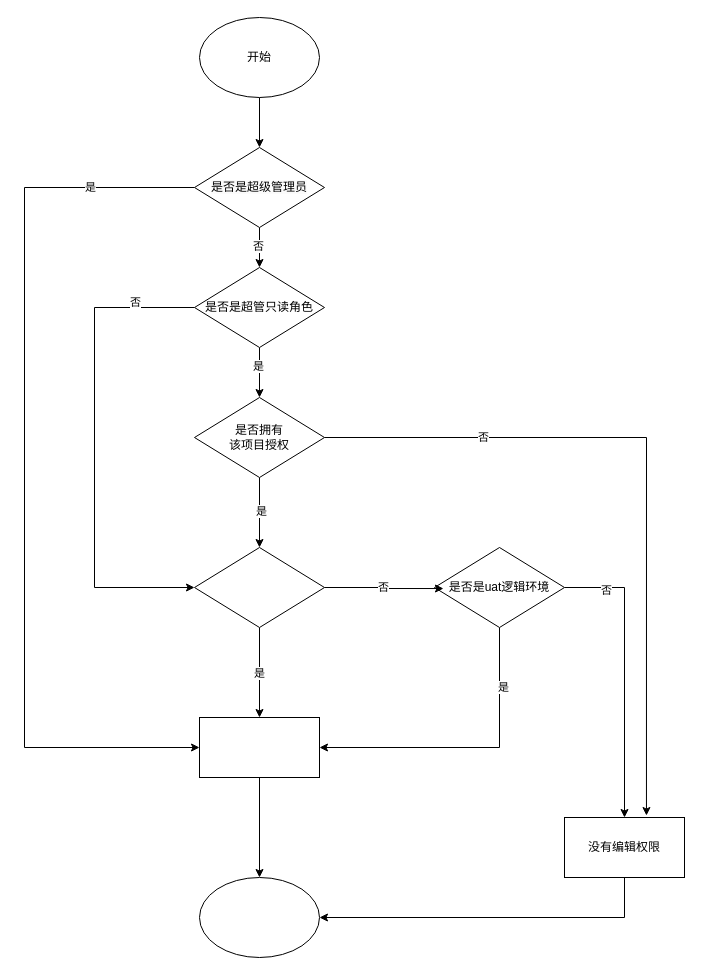
Image size: 702x975. Some labels were removed from this diagram. The shapes that lost their labels are listed below. From the top down, each one's centre as x and y in pixels, then its label:
At point (259, 587): "是否是数仓角色".
At point (259, 747): "拥有编辑权限".
At point (259, 917): "结束".
